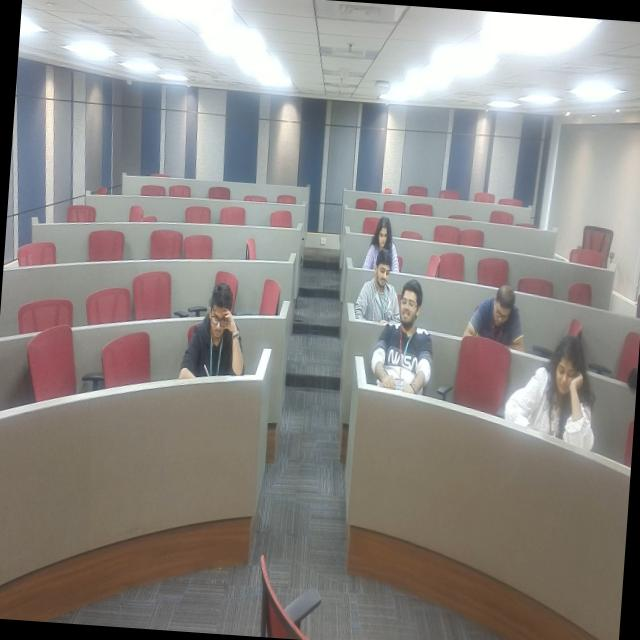non-cheating: (522, 320, 597, 464), (182, 255, 250, 410), (371, 281, 430, 402), (463, 272, 524, 350), (351, 250, 402, 312), (362, 203, 394, 281)
